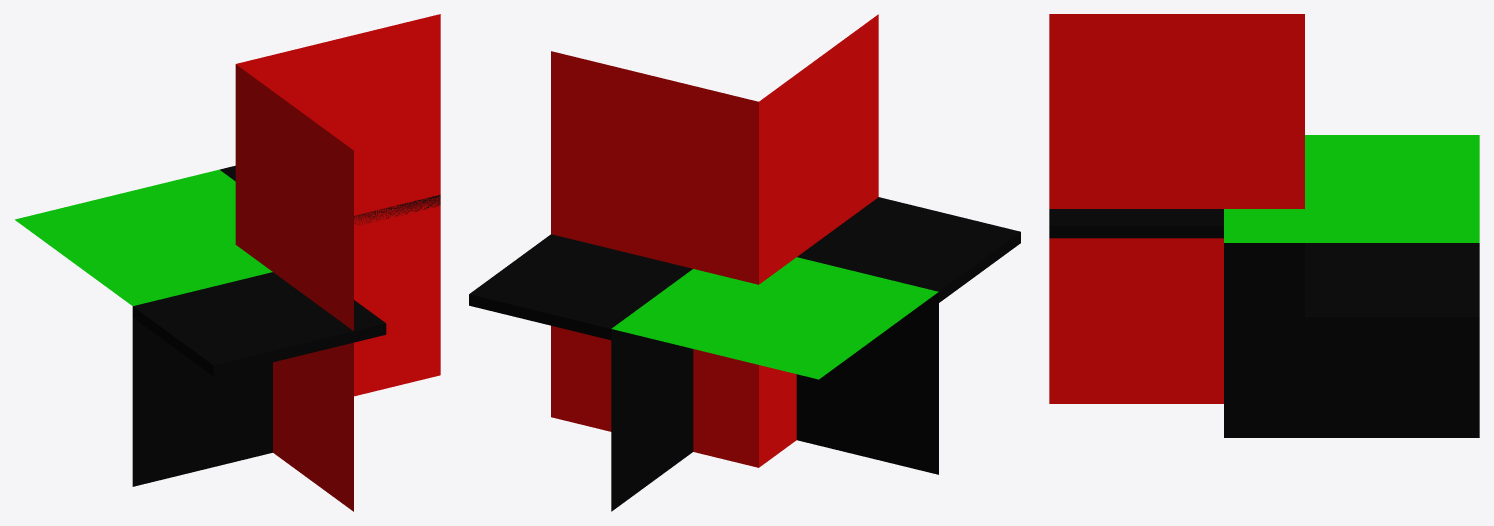
The picture shows the model from 3 angles, left to right: view 1: azimuth 30°, elevation 25°; view 2: azimuth 150°, elevation 25°; view 3: azimuth 270°, elevation 25°; orthographic projection. The views are drawn at different scales.
Parts seen in each view (by area): view 1: None_P_A_E_A_W_P_E_E_None; view 2: None_P_A_E_A_W_P_E_E_None; view 3: None_P_A_E_A_W_P_E_E_None.
Part boxes in pixels (box(x1,y1,x2,y2)): None_P_A_E_A_W_P_E_E_None: box(15, 14, 440, 511); None_P_A_E_A_W_P_E_E_None: box(469, 14, 1020, 511); None_P_A_E_A_W_P_E_E_None: box(1049, 14, 1479, 437).
Size of the model in its own units: 100 by 100 by 100.
